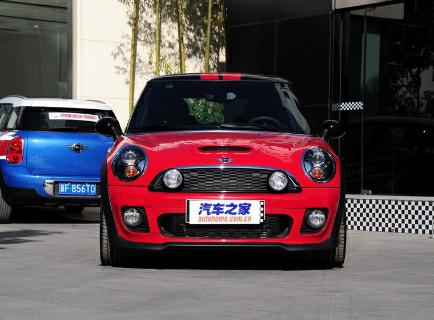MINI: (97, 96, 346, 265)
